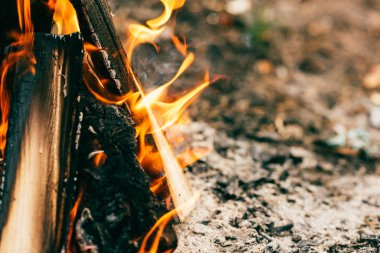fire: (50, 5, 201, 202)
